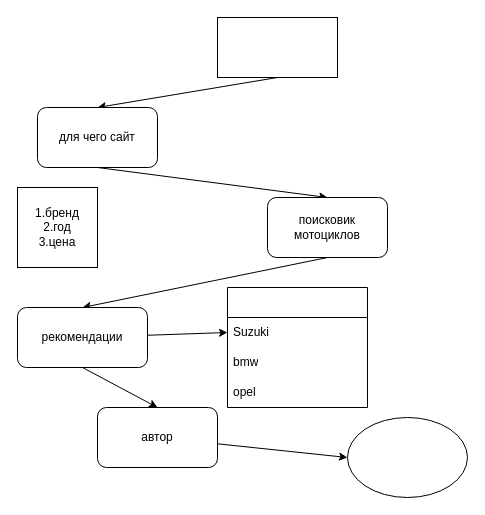
This 485x515 diagram has some shape labels left out. Here are the shapes that lost their labels. From the top down, the box of each, then its label:
(216, 16, 338, 78): фон крутого мотоцикла
(226, 286, 368, 408): виды
(346, 416, 468, 498): хз что ещё
